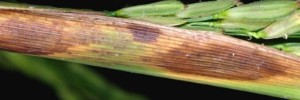RiceSheathBrownRot: (1, 6, 293, 80)
